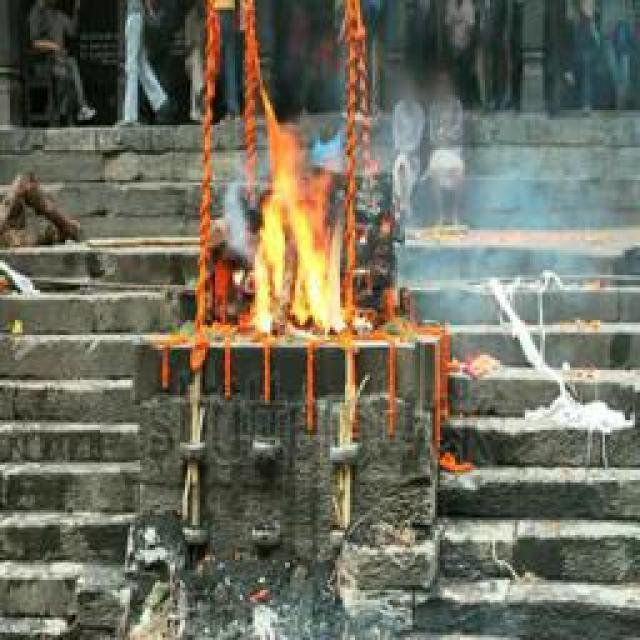Fire: (247, 116, 351, 341)
